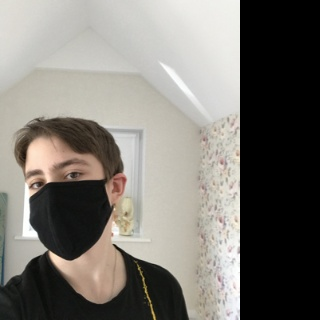with_mask: (24, 147, 113, 261)
